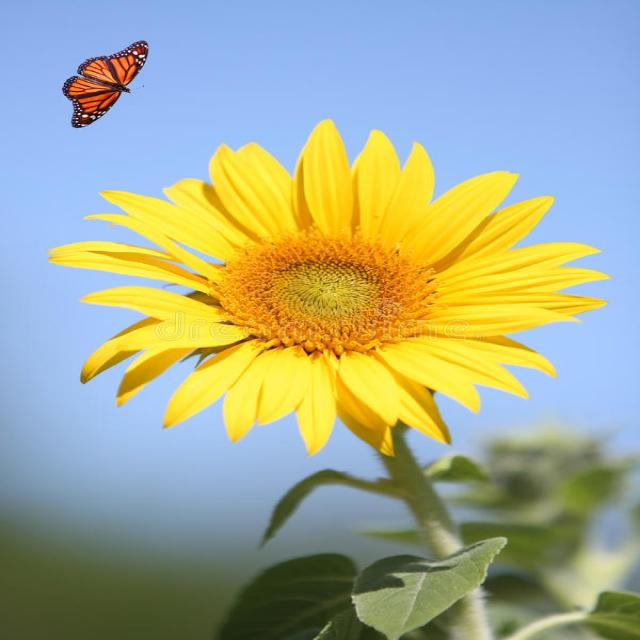sunflower: (46, 124, 601, 446)
